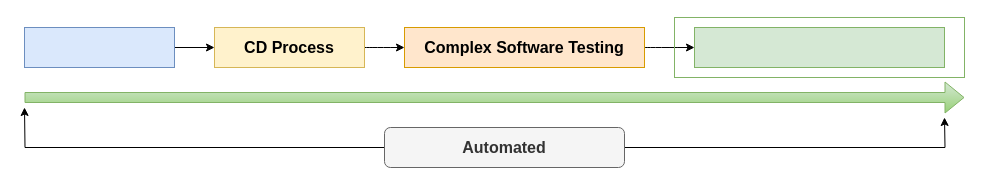
The diagram is 982 pixels wide and 185 high, and some of its shapes have lost their labels. The box of each missing label's shape, as (x1, y1, x2, y2) in pixels:
CI Process: (24, 26, 174, 68)
Production Environment: (694, 26, 944, 68)
